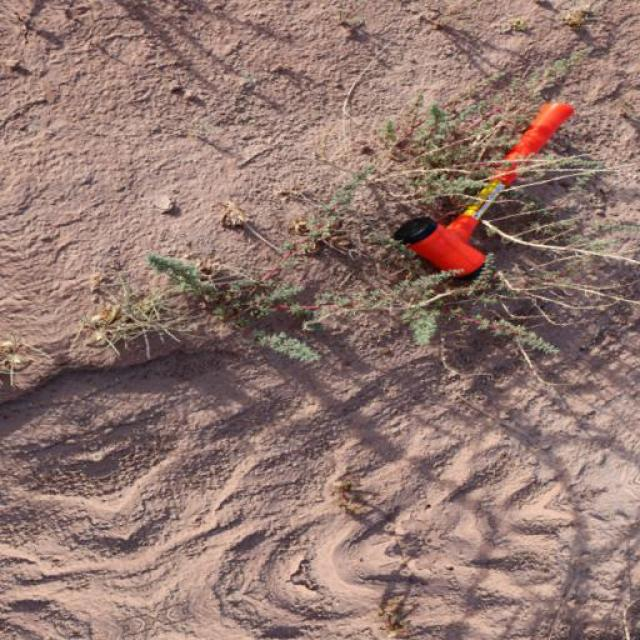mallet: (391, 99, 575, 279)
